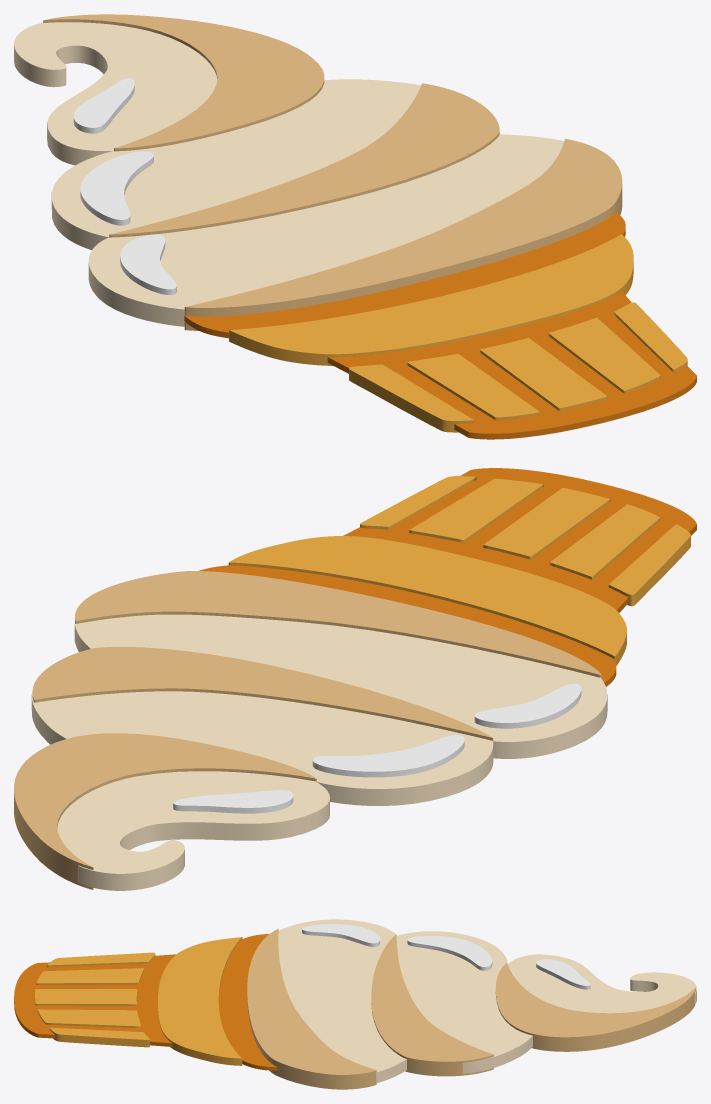
File: emoji_u1f366.glb
3 renders of one model, top to bottom at view 1: azimuth 30°, elevation 25°; view 2: azimuth 150°, elevation 25°; view 3: azimuth 270°, elevation 25°, orthographic. The views are drawn at different scales.
Visible parts, largest first — view 1: emoji_u1f366; view 2: emoji_u1f366; view 3: emoji_u1f366.
Part boxes in pixels (x1,y1,x2,y2): emoji_u1f366: (14,14,696,439); emoji_u1f366: (14,468,696,890); emoji_u1f366: (14,919,696,1089).
Size of the model in its own units: 0.0185 by 0.001 by 0.0338.
